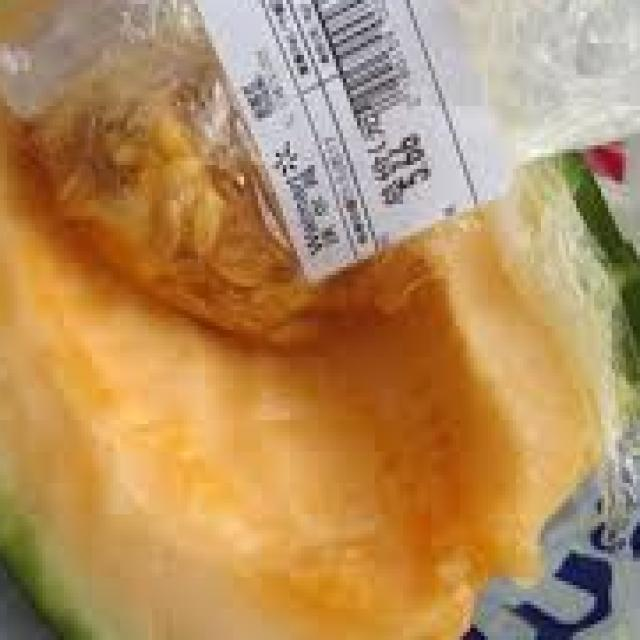inorganic: (7, 10, 630, 627)
